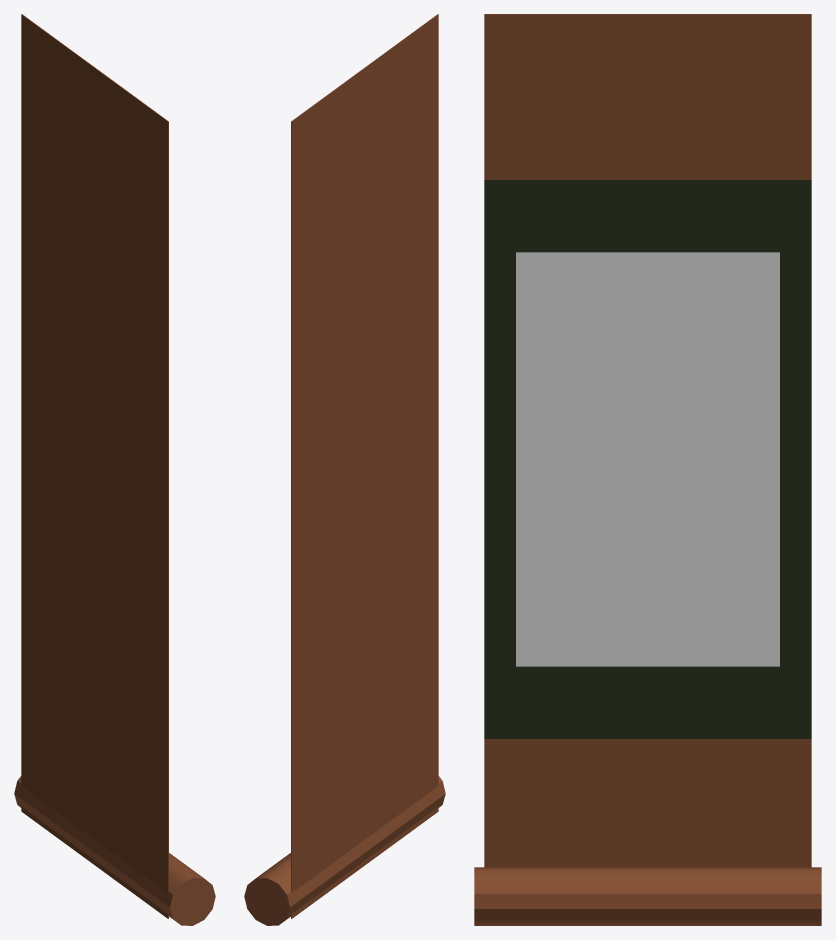
Rendered from Scroll Wallpaper.fbx.
3 renders of one model, left to right at view 1: azimuth 30°, elevation 25°; view 2: azimuth 150°, elevation 25°; view 3: azimuth 270°, elevation 25°, orthographic. The views are drawn at different scales.
Visible parts, largest first — view 1: Plane; view 2: Plane; view 3: Plane.
Part boxes in pixels (<box>): Plane: <box>14,14,215,925</box>; Plane: <box>244,14,445,925</box>; Plane: <box>474,14,821,925</box>.
Bounding box in the file's own units: 36.04 × 605 × 212.
